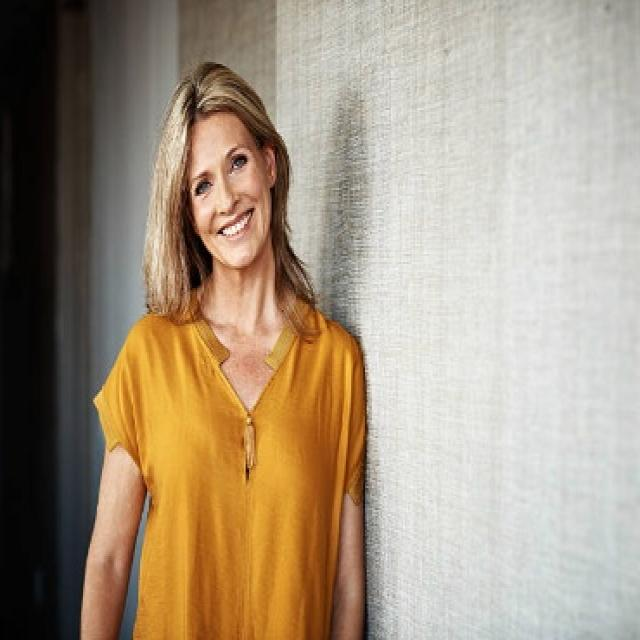adult: (70, 65, 366, 640)
